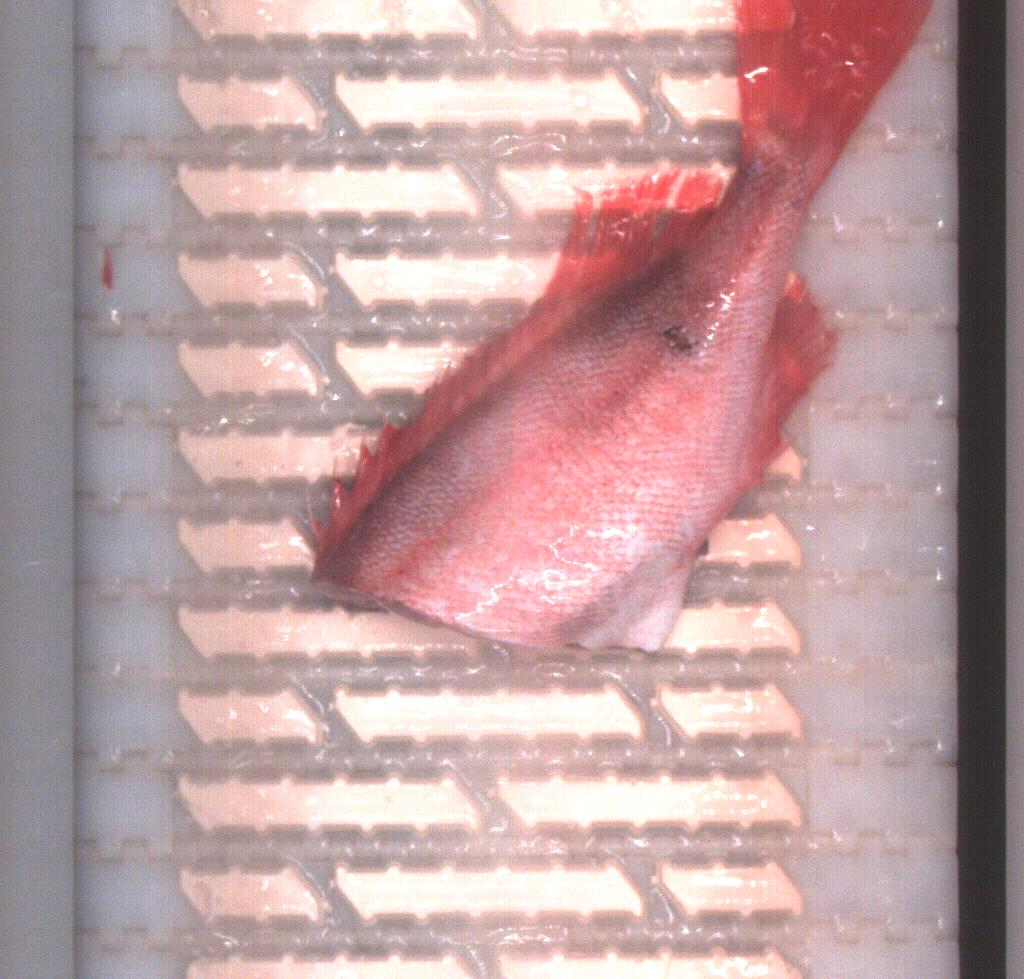Fish: (314, 0, 931, 652)
